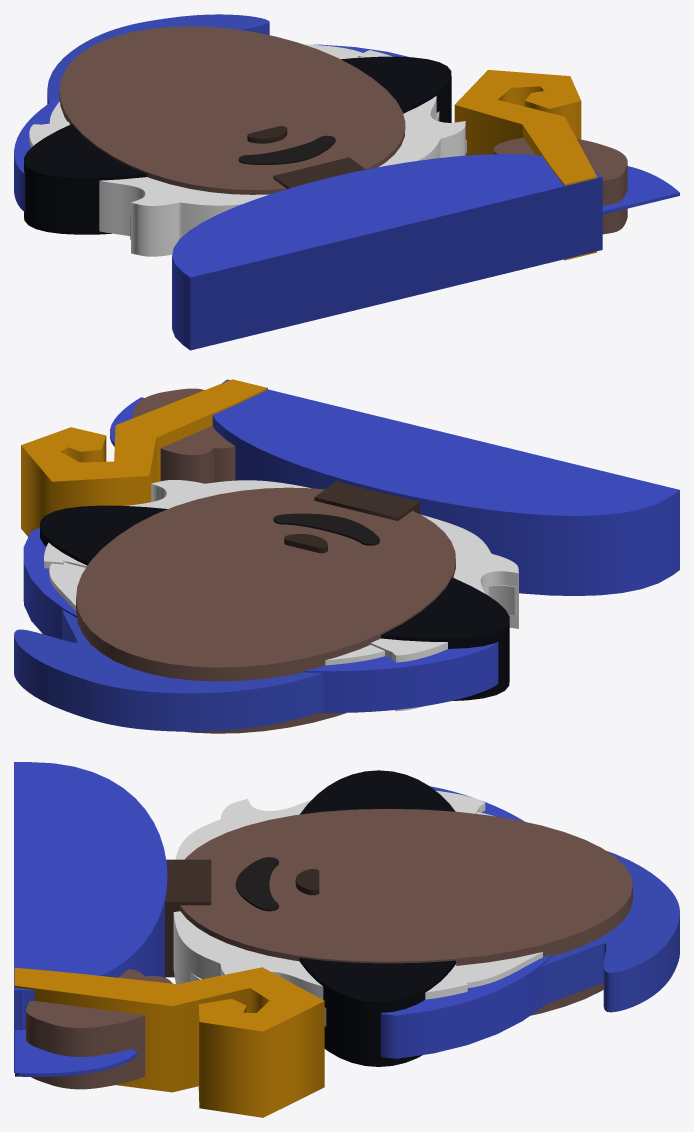
Rendered from emoji_u1f9d9_1f3ff.glb.
The picture shows the model from 3 angles, top to bottom: view 1: azimuth 30°, elevation 25°; view 2: azimuth 150°, elevation 25°; view 3: azimuth 270°, elevation 25°; orthographic projection. The views are drawn at different scales.
Parts seen in each view (by area): view 1: emoji_u1f9d9_1f3ff; view 2: emoji_u1f9d9_1f3ff; view 3: emoji_u1f9d9_1f3ff.
Boxes of the visible parts, <box> form: emoji_u1f9d9_1f3ff: <box>14,14,679,350</box>; emoji_u1f9d9_1f3ff: <box>14,379,679,733</box>; emoji_u1f9d9_1f3ff: <box>14,762,679,1117</box>.
Size of the model in its own units: 0.0325 by 0.0048 by 0.0336.
